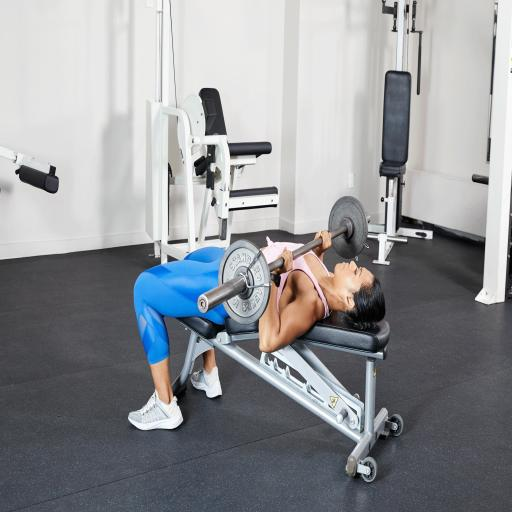exercise: (126, 228, 387, 434)
